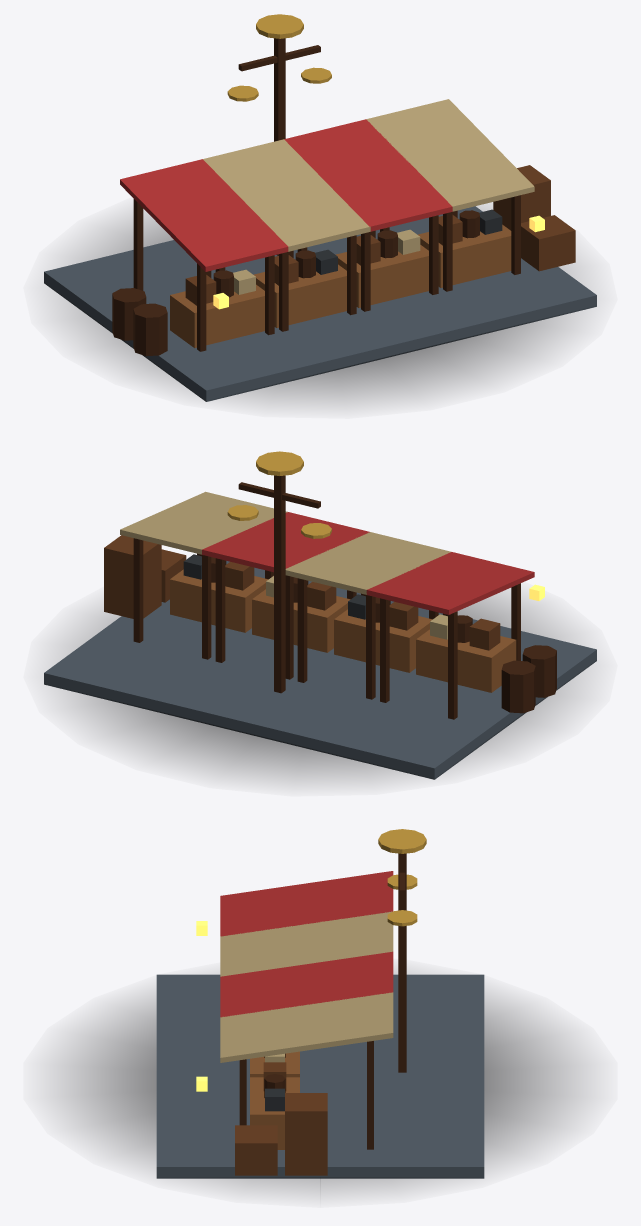
The model's file is market_t2.glb.
3 renders of one model, top to bottom at view 1: azimuth 30°, elevation 25°; view 2: azimuth 150°, elevation 25°; view 3: azimuth 270°, elevation 25°, orthographic.
Visible parts, largest first — view 1: market_t2; view 2: market_t2; view 3: market_t2.
Part boxes in pixels (x1,y1,x2,y2): market_t2: (44,14,596,402); market_t2: (44,451,596,780); market_t2: (60,829,580,1196).
Bounding box in the file's own units: 8.7 × 3.77 × 8.62.
